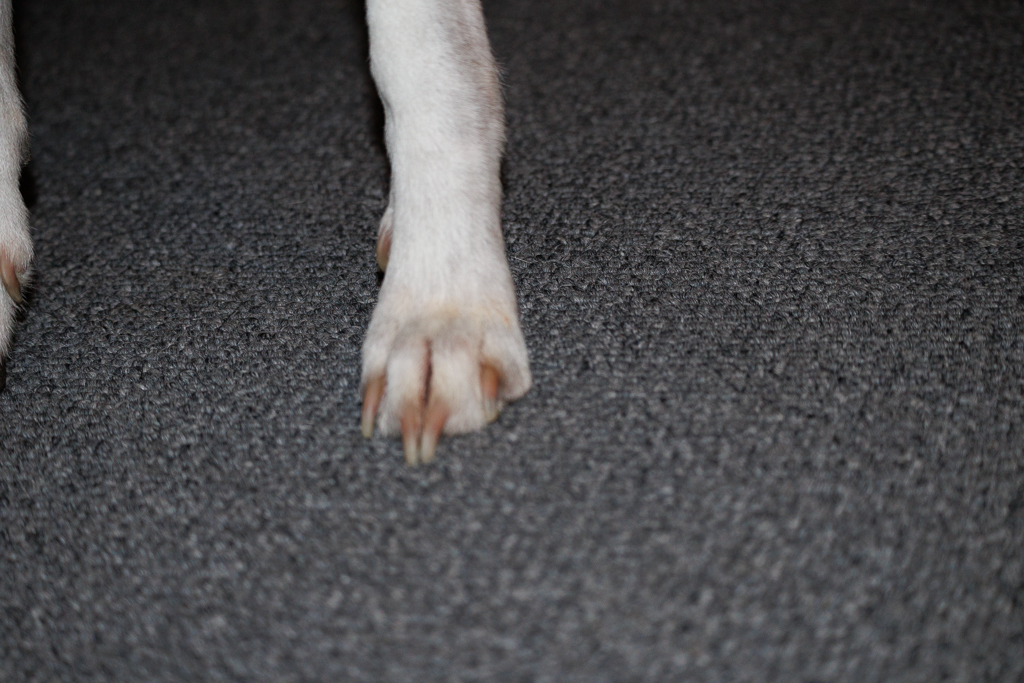Dog: (0, 0, 544, 478)
